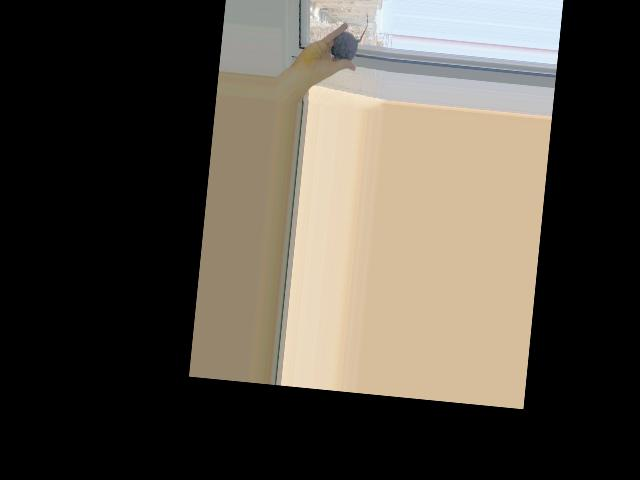beet: (330, 8, 369, 61)
